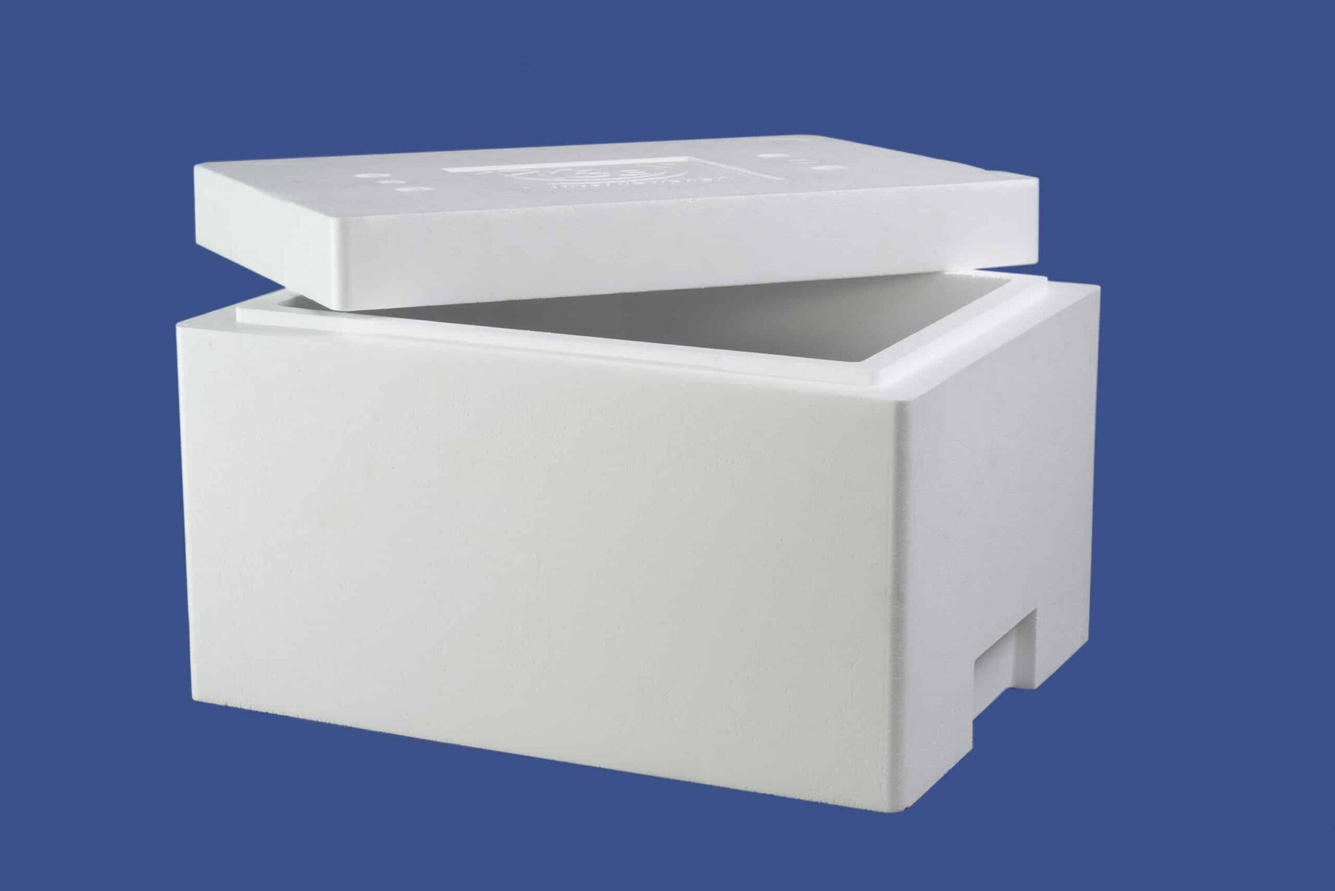Boxes: (177, 136, 1099, 811)
